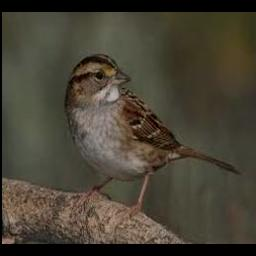Sparrow: (65, 54, 243, 220)
